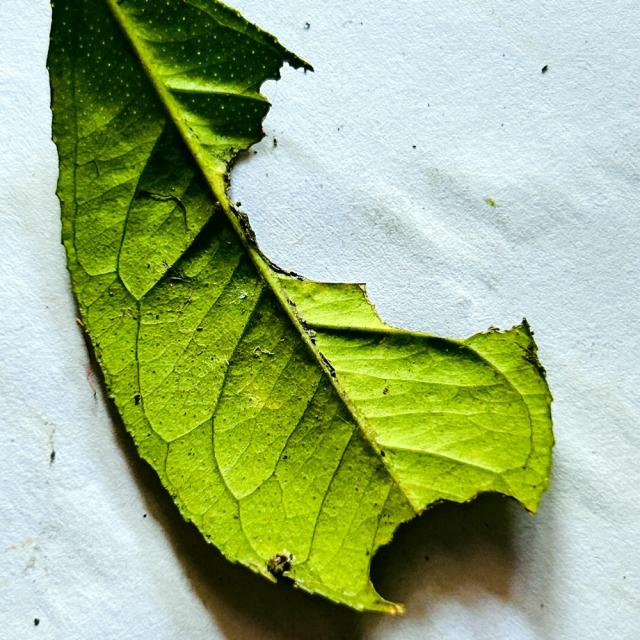Deficiency Leaf: (230, 53, 529, 338), (371, 493, 533, 619)
Lemon: (47, 0, 554, 612)
